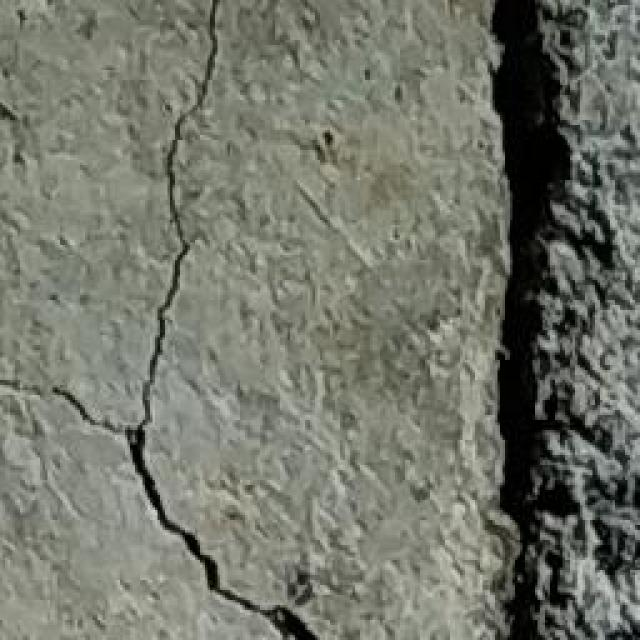Longitudinal: (423, 0, 599, 640)
Radial: (0, 0, 343, 640)
